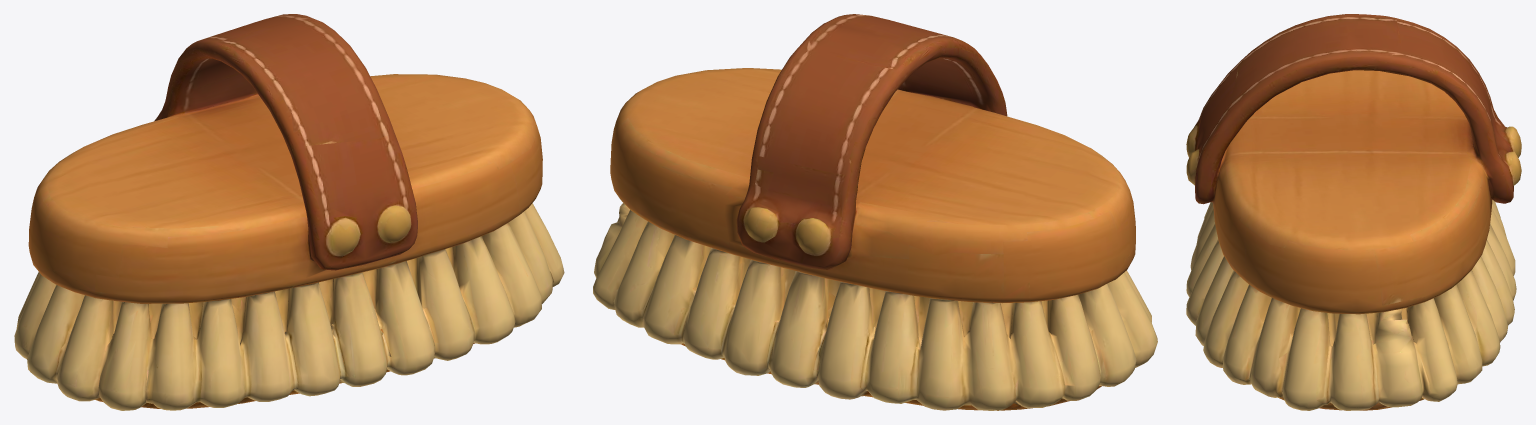
3 views of the same model, side by side, from view 1: azimuth 30°, elevation 25°; view 2: azimuth 150°, elevation 25°; view 3: azimuth 270°, elevation 25° (orthographic). The views are drawn at different scales.
Visible parts, largest first — view 1: grooming-brush; view 2: grooming-brush; view 3: grooming-brush.
Boxes of the visible parts, left/top/right/bottom form: grooming-brush: left=14, top=14, right=564, bottom=410; grooming-brush: left=593, top=14, right=1157, bottom=410; grooming-brush: left=1186, top=14, right=1521, bottom=410.
Bounding box in the file's own units: 0.22 × 0.1202 × 0.1327.
Materials: 1 (1 with a texture image).
